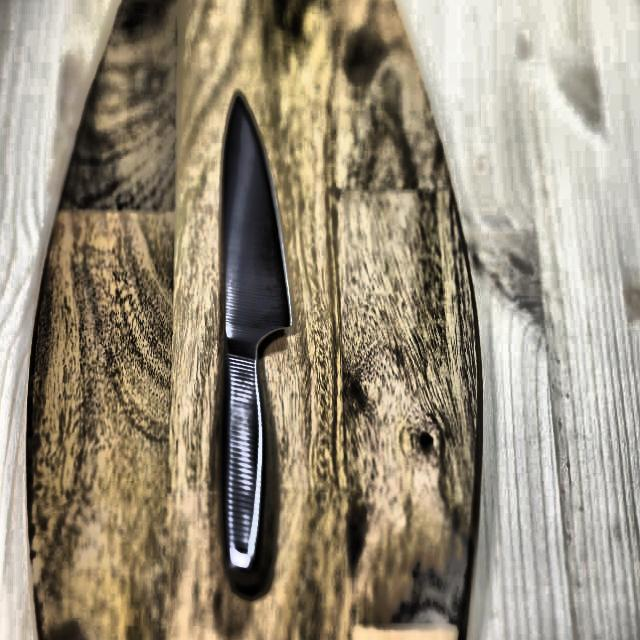knife: (216, 88, 295, 594)
